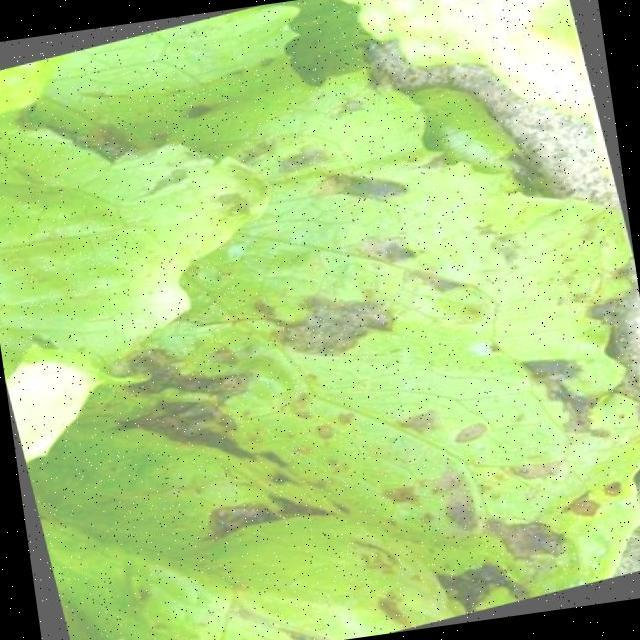Bacterial: (72, 223, 535, 581)
